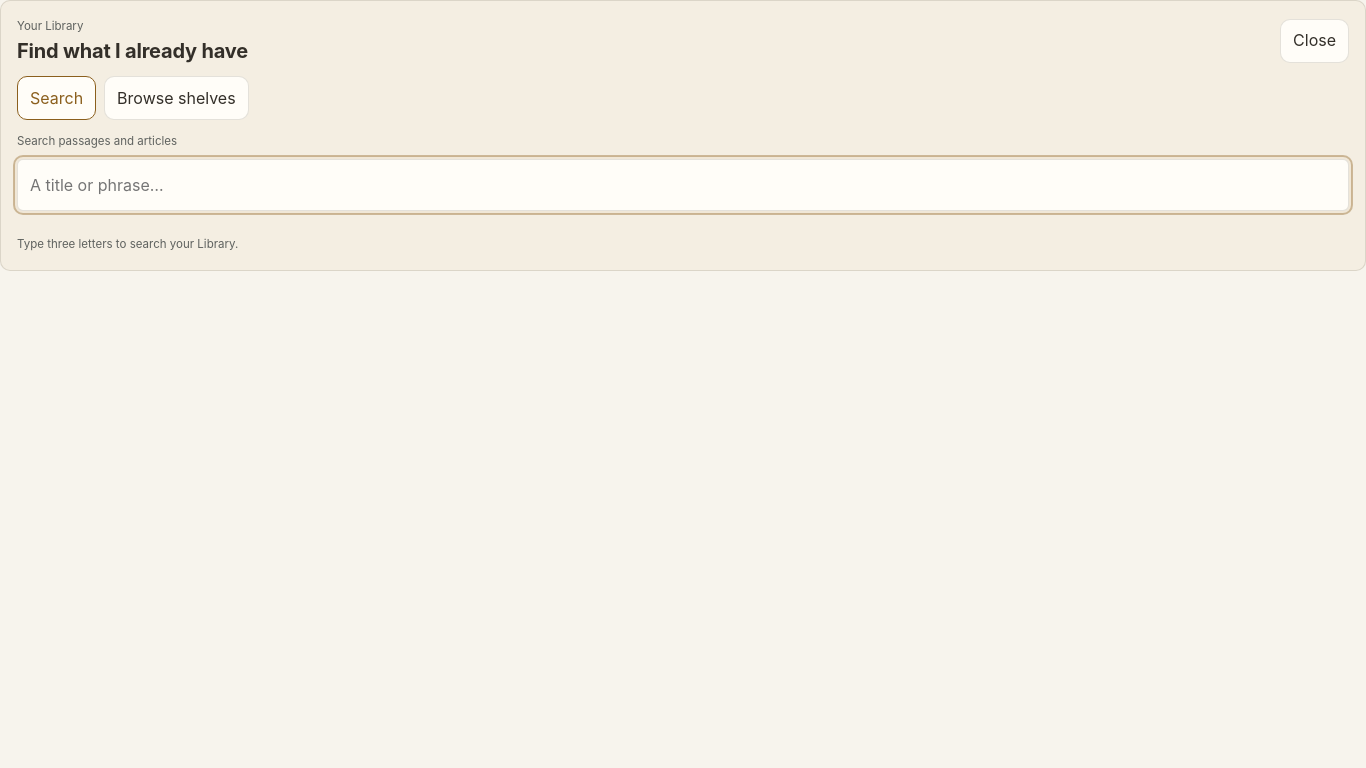
Test case: LibraryPassagePicker › names the empty browse scope
This screenshot has width=1366, height=768.
What coordinates should you click on to do the following:
click the button "Browse shelves"
I would click on:
 (176, 98)
Its box is [104, 76, 249, 120].
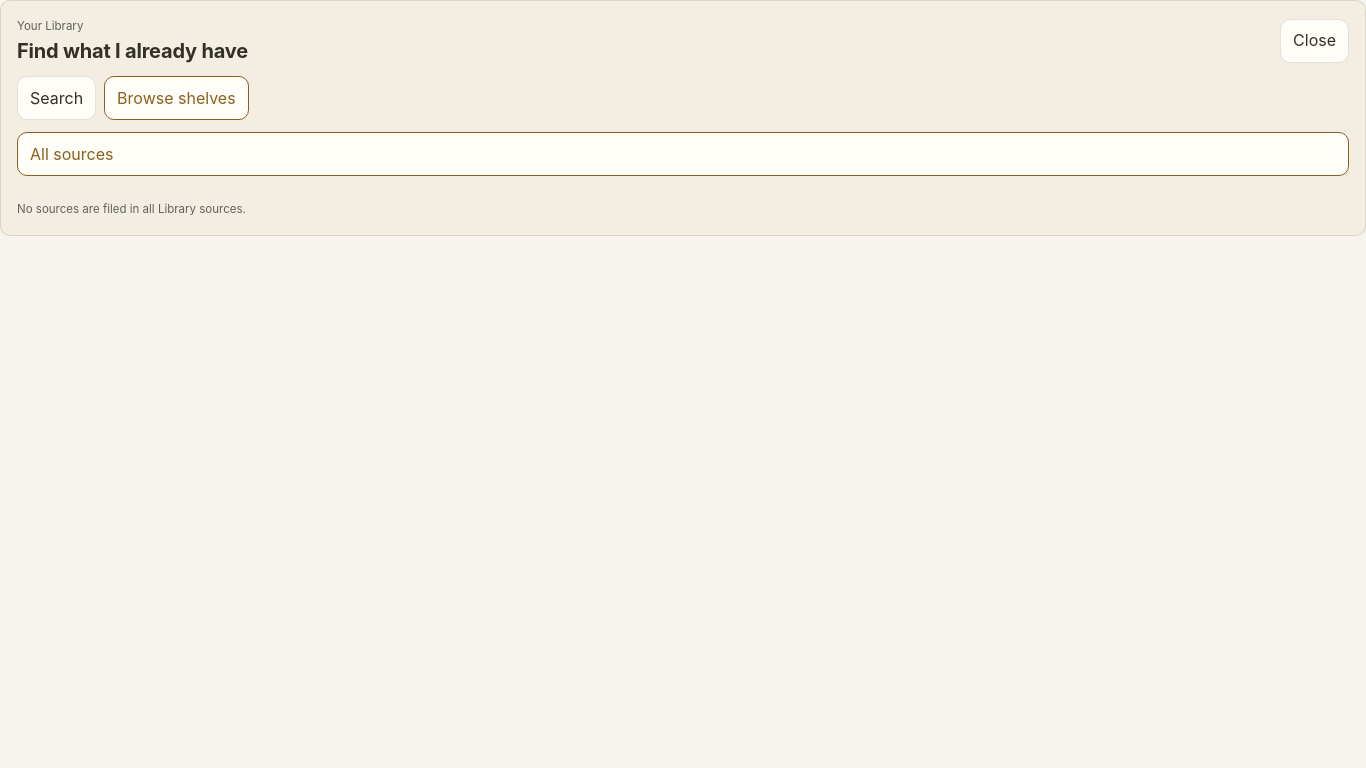
Expected: the text "No sources are filed in all Library sources." is shown, [17, 202, 246, 216]
